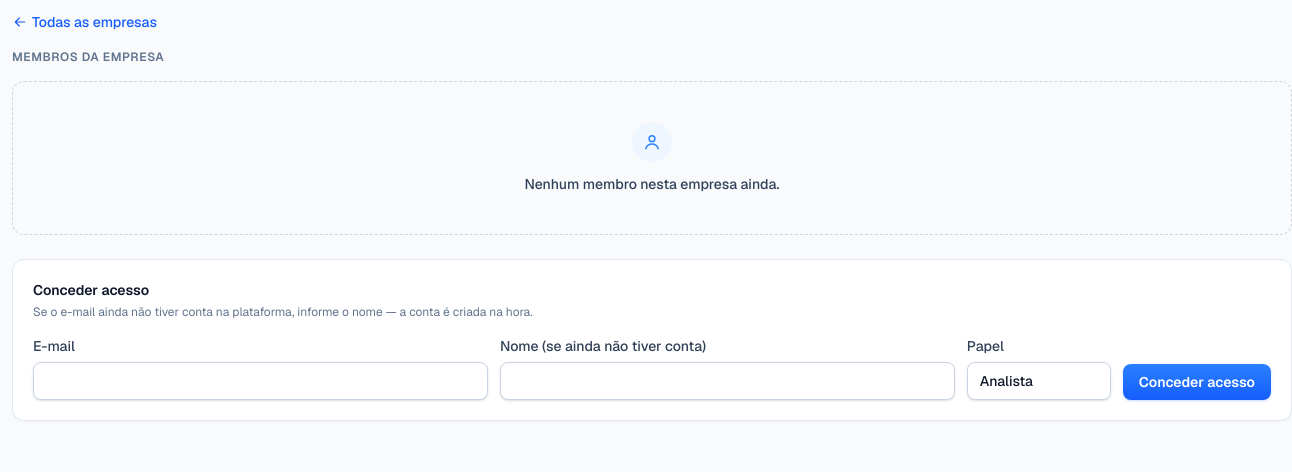
Test: AdminOrganizationMembersPage › concede acesso a um e-mail novo e mostra o link de definir senha
Type "novo@example.com" into the field labelled "E-mail".
click(260, 381); type("novo@example.com")  # box [33,362,488,400]
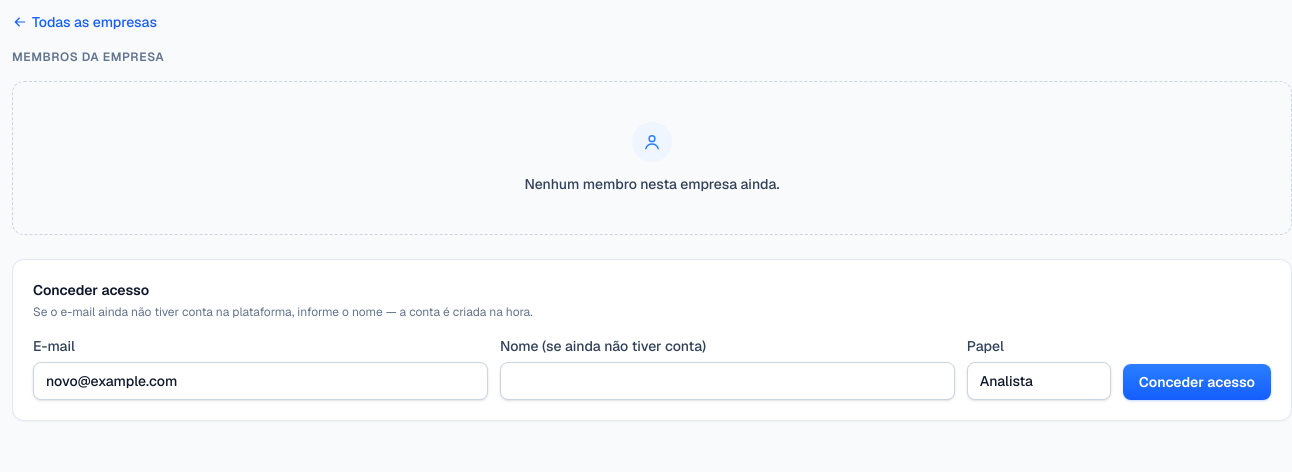
Type "Novo Funcionário" into the field labelled "Nome (se ainda não tiver conta)".
click(727, 381); type("Novo Funcionário")  # box [500,362,955,400]
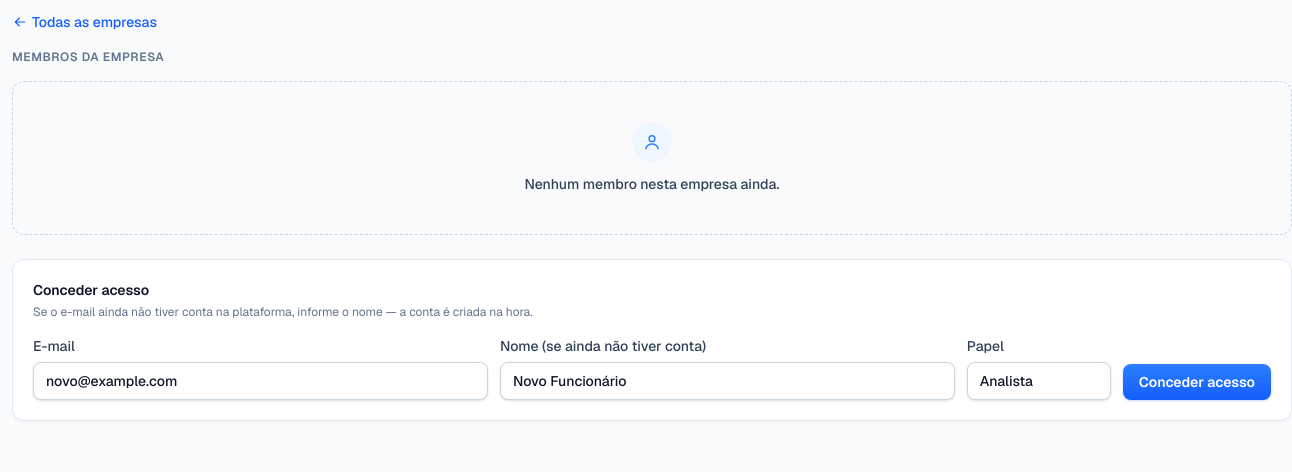
Click the button "Conceder acesso".
click(1197, 382)  # box [1123,364,1271,400]
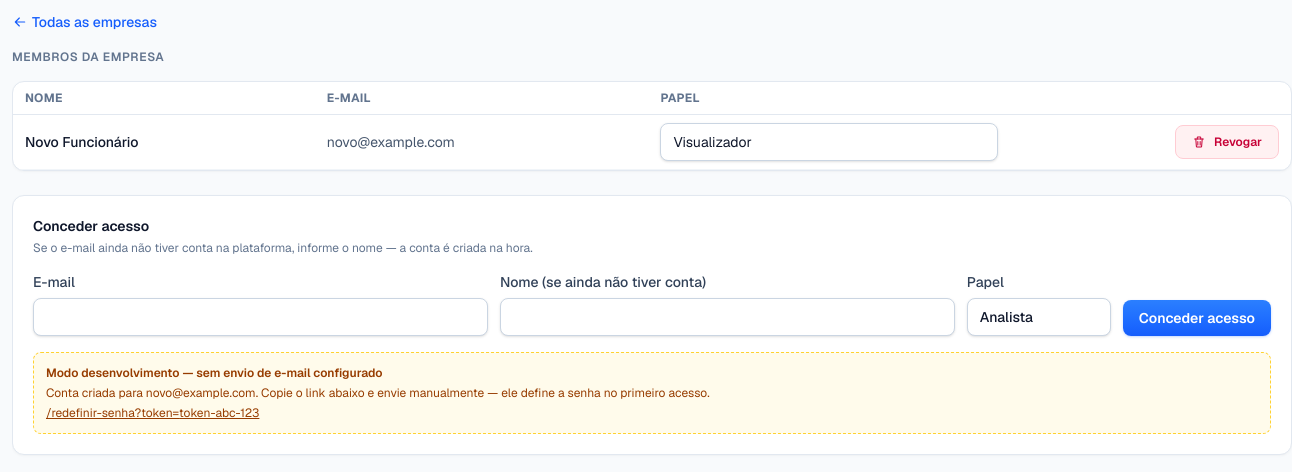
Now the text "Novo Funcionário" is shown, box [13,114,315,170]
